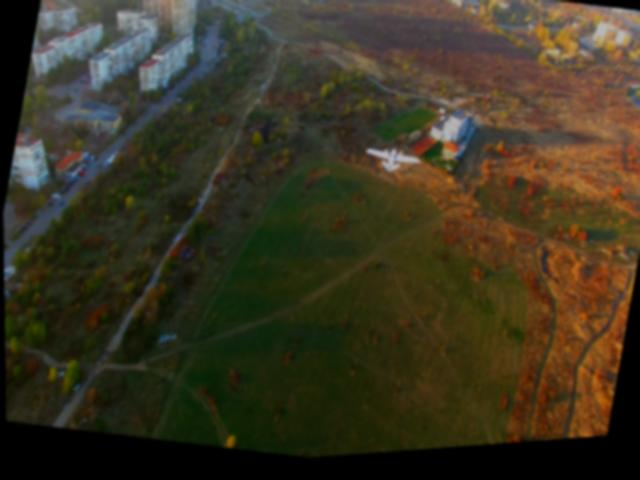plane: (360, 145, 422, 183)
